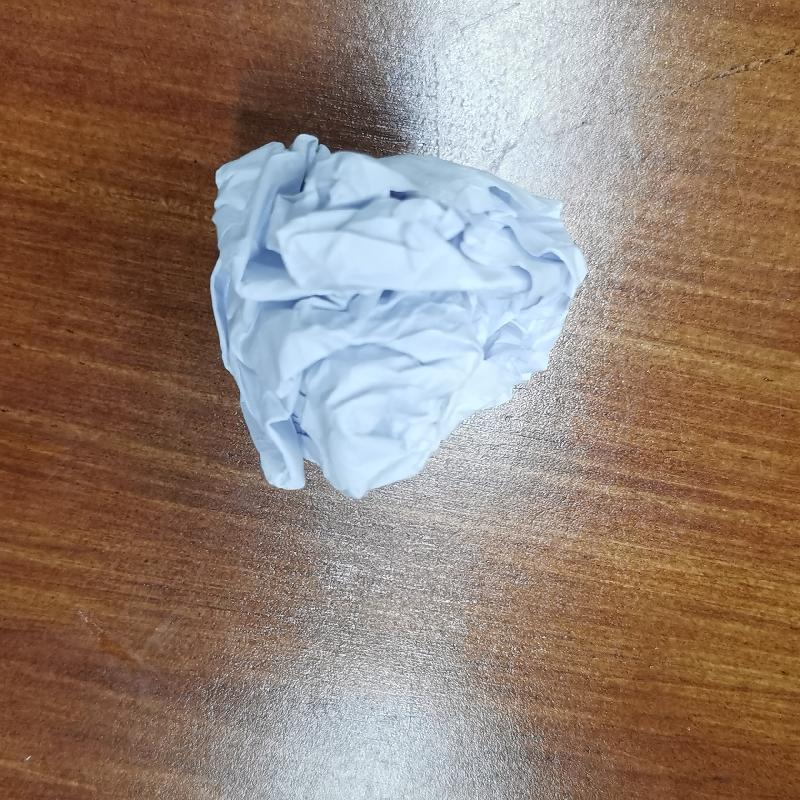spitball: (206, 132, 596, 500)
